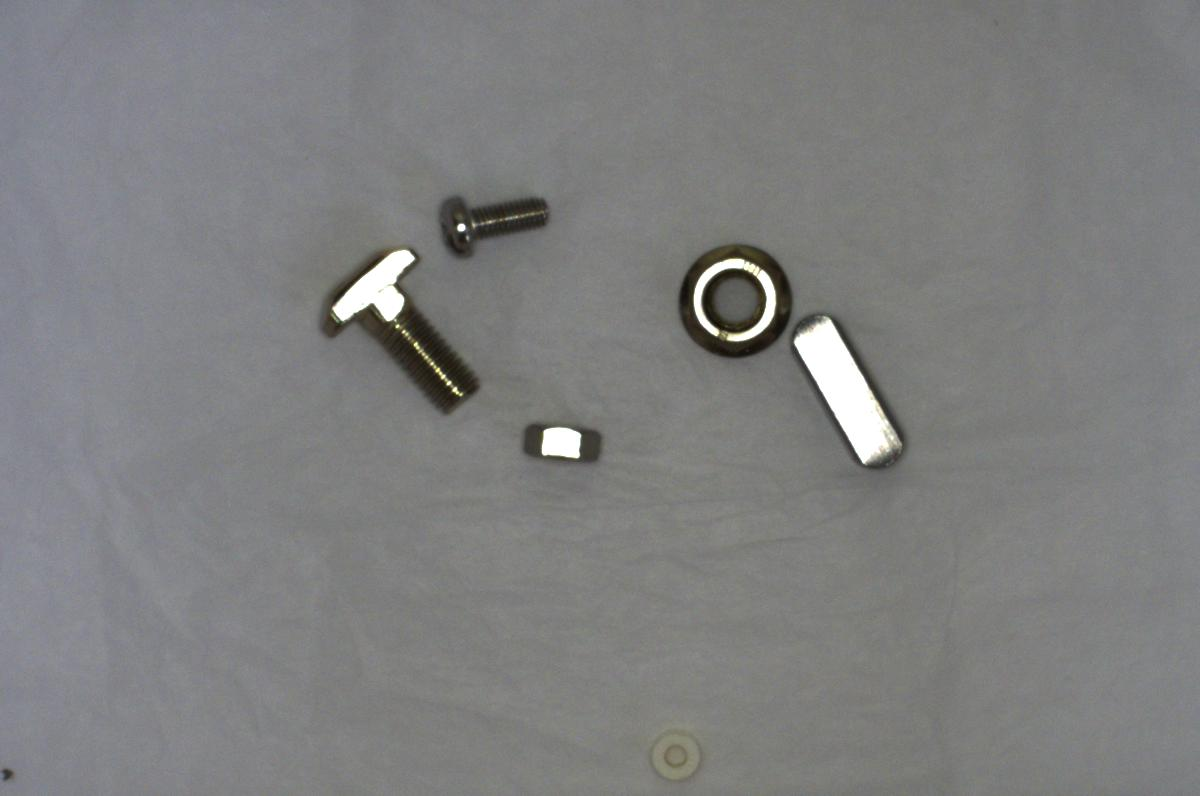Flange nut: (665, 237, 800, 364)
Hexagon nut: (511, 410, 610, 465)
Keybar: (780, 308, 920, 473)
Plastic cushion pillar: (644, 726, 703, 782)
Round head screw: (435, 180, 555, 262)
T-shaped screw: (320, 239, 484, 415)
